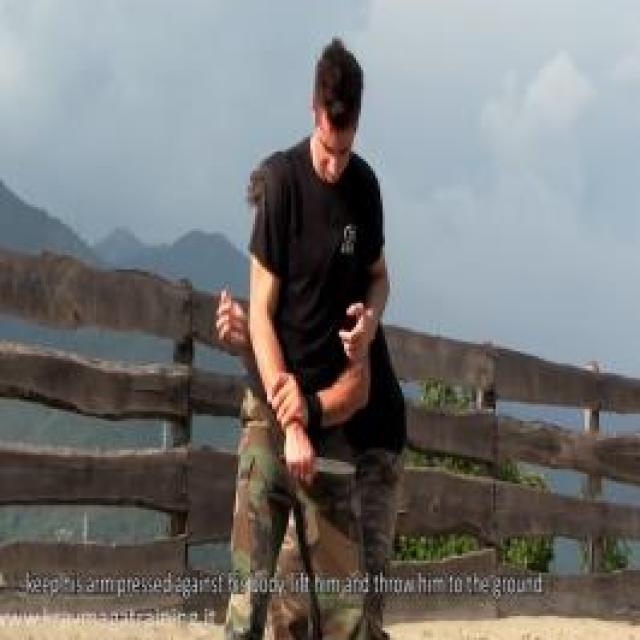knife: (274, 438, 361, 481)
